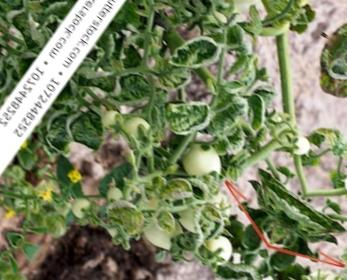Tomato leaf yellow virus: (155, 84, 219, 150), (165, 25, 226, 87), (196, 118, 254, 179), (93, 189, 150, 241), (204, 95, 253, 149), (151, 52, 197, 100)
